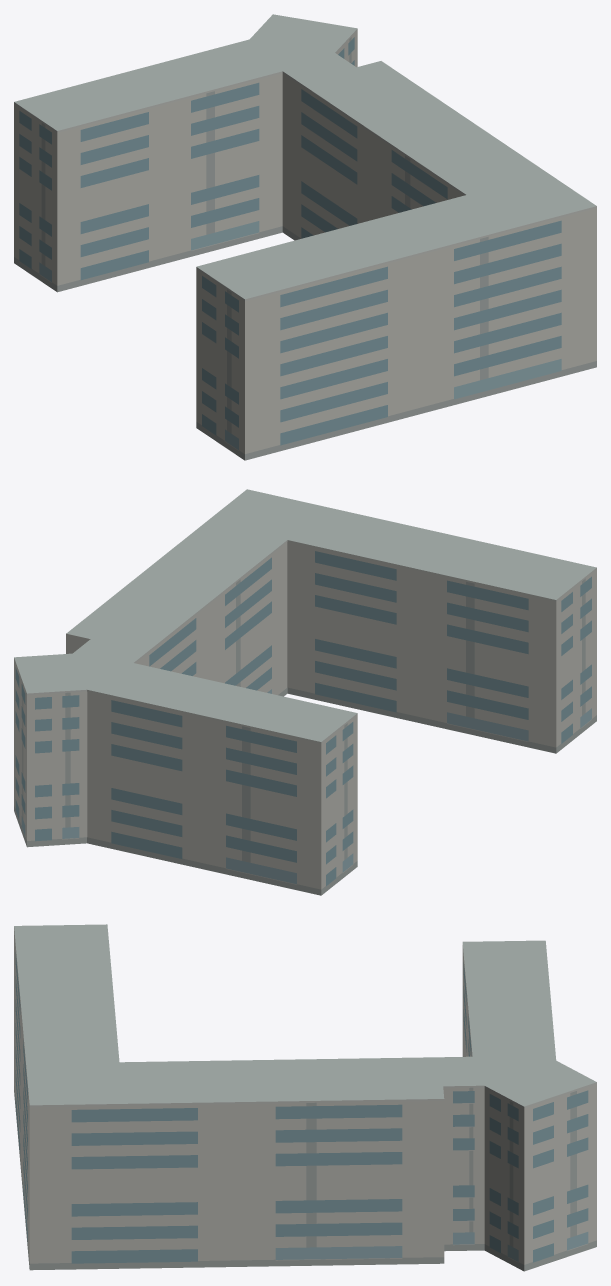
The model's file is residential-107e62ff-19fc-46d9-95c1-44546a41ef5c.glb.
3 views of the same model, one above another, from view 1: azimuth 30°, elevation 25°; view 2: azimuth 150°, elevation 25°; view 3: azimuth 270°, elevation 25° (orthographic). The views are drawn at different scales.
Visible parts, largest first — view 1: residential-107e62ff-19fc-46d9-95c1-44546a41ef5c.tmp; view 2: residential-107e62ff-19fc-46d9-95c1-44546a41ef5c.tmp; view 3: residential-107e62ff-19fc-46d9-95c1-44546a41ef5c.tmp.
Boxes of the visible parts, x1=… form: residential-107e62ff-19fc-46d9-95c1-44546a41ef5c.tmp: x1=14, y1=14, x2=596, y2=460; residential-107e62ff-19fc-46d9-95c1-44546a41ef5c.tmp: x1=14, y1=489, x2=596, y2=895; residential-107e62ff-19fc-46d9-95c1-44546a41ef5c.tmp: x1=14, y1=924, x2=596, y2=1271.
Size of the model in its own units: 49.79 by 21 by 67.31.
